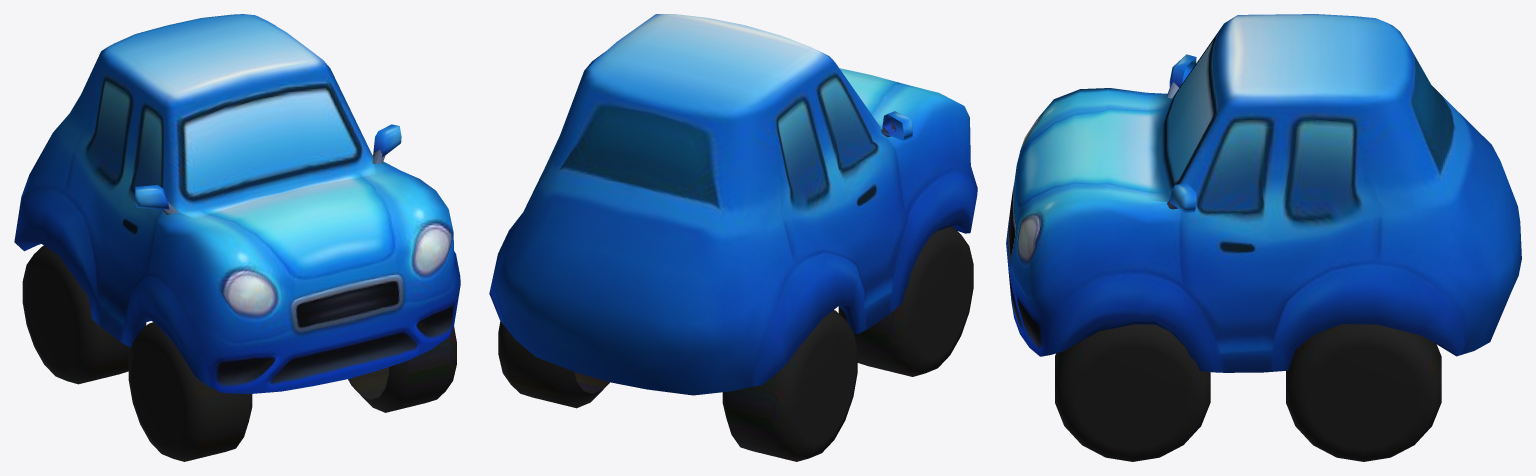
File: XanhBien.fbx
3 renders of one model, left to right at view 1: azimuth 30°, elevation 25°; view 2: azimuth 150°, elevation 25°; view 3: azimuth 270°, elevation 25°, orthographic. The views are drawn at different scales.
Parts seen in each view (by area): view 1: XanhBien, XanhBienBanh; view 2: XanhBien, XanhBienBanh; view 3: XanhBien, XanhBienBanh.
Boxes of the visible parts, left/top/right/bottom form: XanhBien: left=14, top=14, right=460, bottom=393; XanhBienBanh: left=22, top=245, right=456, bottom=461; XanhBien: left=489, top=14, right=977, bottom=395; XanhBienBanh: left=498, top=226, right=973, bottom=461; XanhBien: left=1006, top=14, right=1521, bottom=372; XanhBienBanh: left=1055, top=324, right=1441, bottom=461.
Size of the model in its own units: 1.73 by 2.55 by 1.9.
